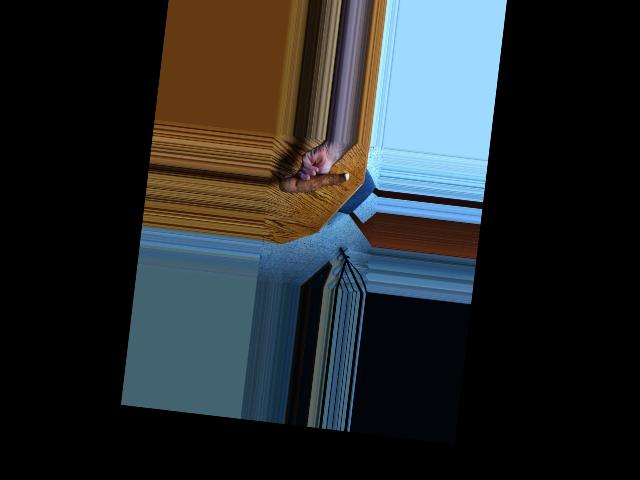sweet_potato: (279, 162, 351, 202)
